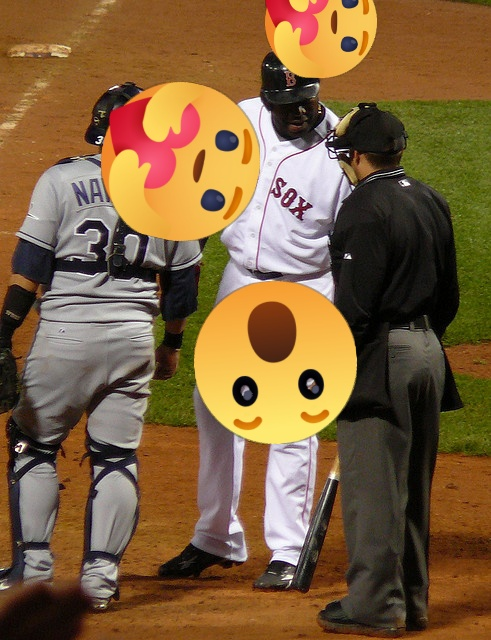care: (101, 82, 260, 241), (265, 0, 377, 78)
wow: (194, 281, 357, 444)
